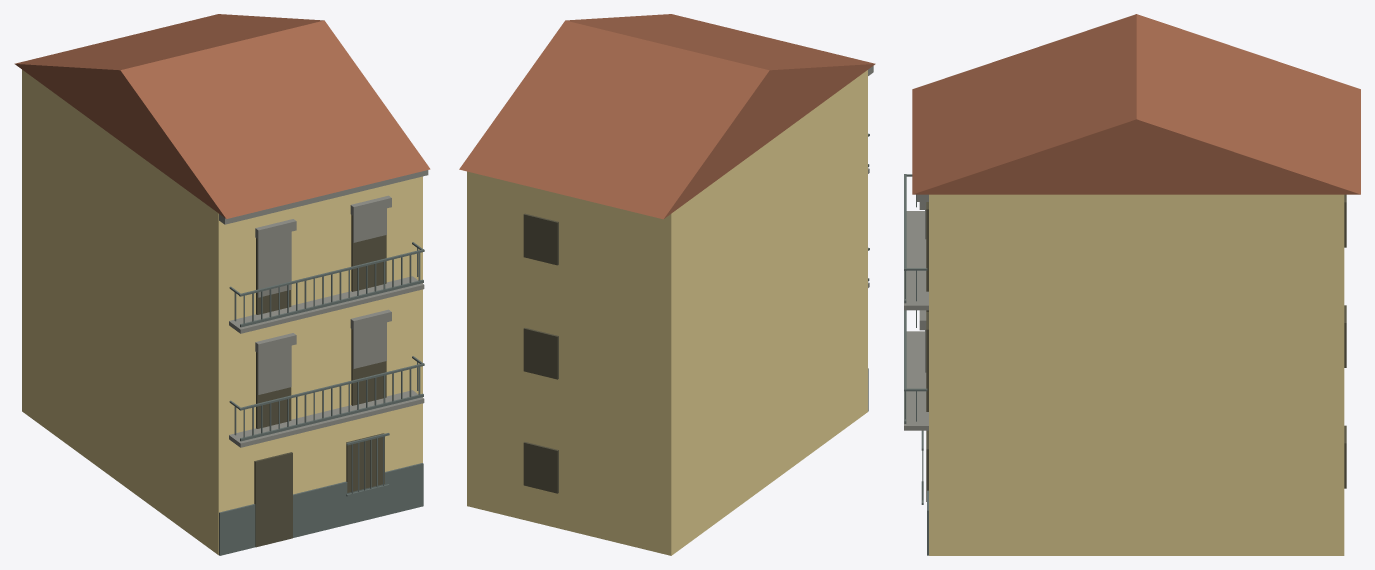
The model's file is SM_TresAlturas_v1_Ocre_LOD0.fbx.
3 renders of one model, left to right at view 1: azimuth 30°, elevation 25°; view 2: azimuth 150°, elevation 25°; view 3: azimuth 270°, elevation 25°, orthographic. The views are drawn at different scales.
Parts seen in each view (by area): view 1: SM_pueblo_valenciano_v11_LOD0; view 2: SM_pueblo_valenciano_v11_LOD0; view 3: SM_pueblo_valenciano_v11_LOD0.
Boxes of the visible parts, x1,y1,x2,y2 form: SM_pueblo_valenciano_v11_LOD0: (14,14,430,555); SM_pueblo_valenciano_v11_LOD0: (459,14,875,555); SM_pueblo_valenciano_v11_LOD0: (904,14,1360,555).
Size of the model in its own units: 6 by 11.6 by 11.
